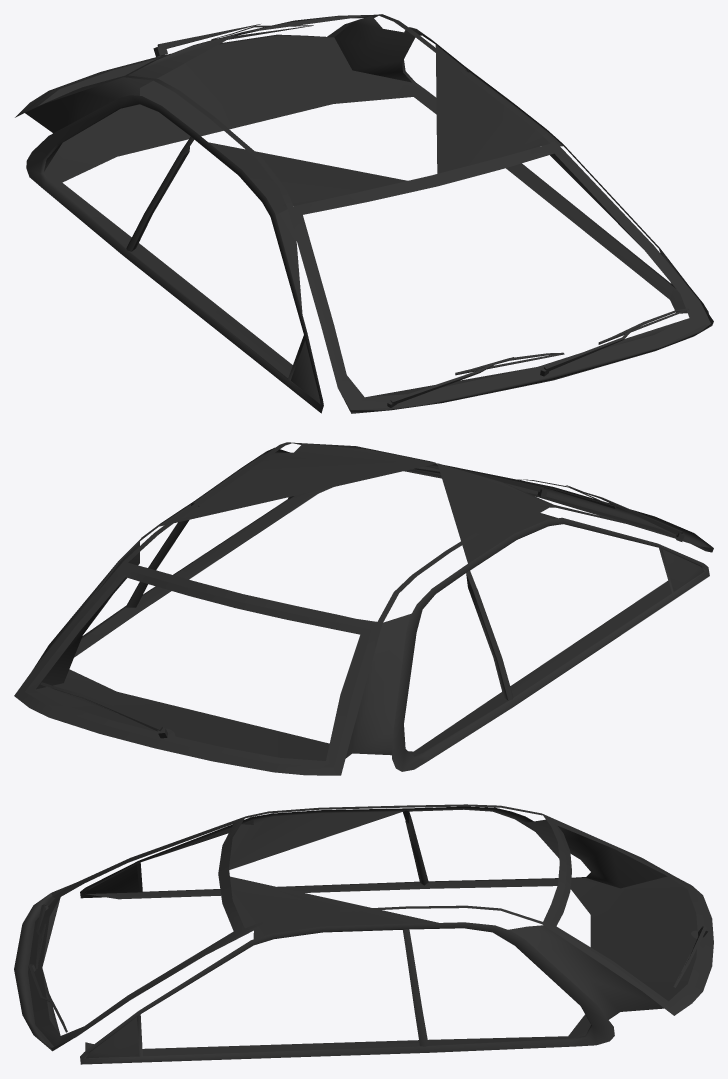
The model's file is trim.obj.
3 renders of one model, top to bottom at view 1: azimuth 30°, elevation 25°; view 2: azimuth 150°, elevation 25°; view 3: azimuth 270°, elevation 25°, orthographic. The views are drawn at different scales.
Parts seen in each view (by area): view 1: Trim1; view 2: Trim1; view 3: Trim1.
Part boxes in pixels (x1,y1,x2,y2): Trim1: (15,14,713,413); Trim1: (14,442,713,775); Trim1: (14,804,713,1064).
Size of the model in its own units: 5.92 by 2.07 by 10.48.
1 material, 1 textured.
